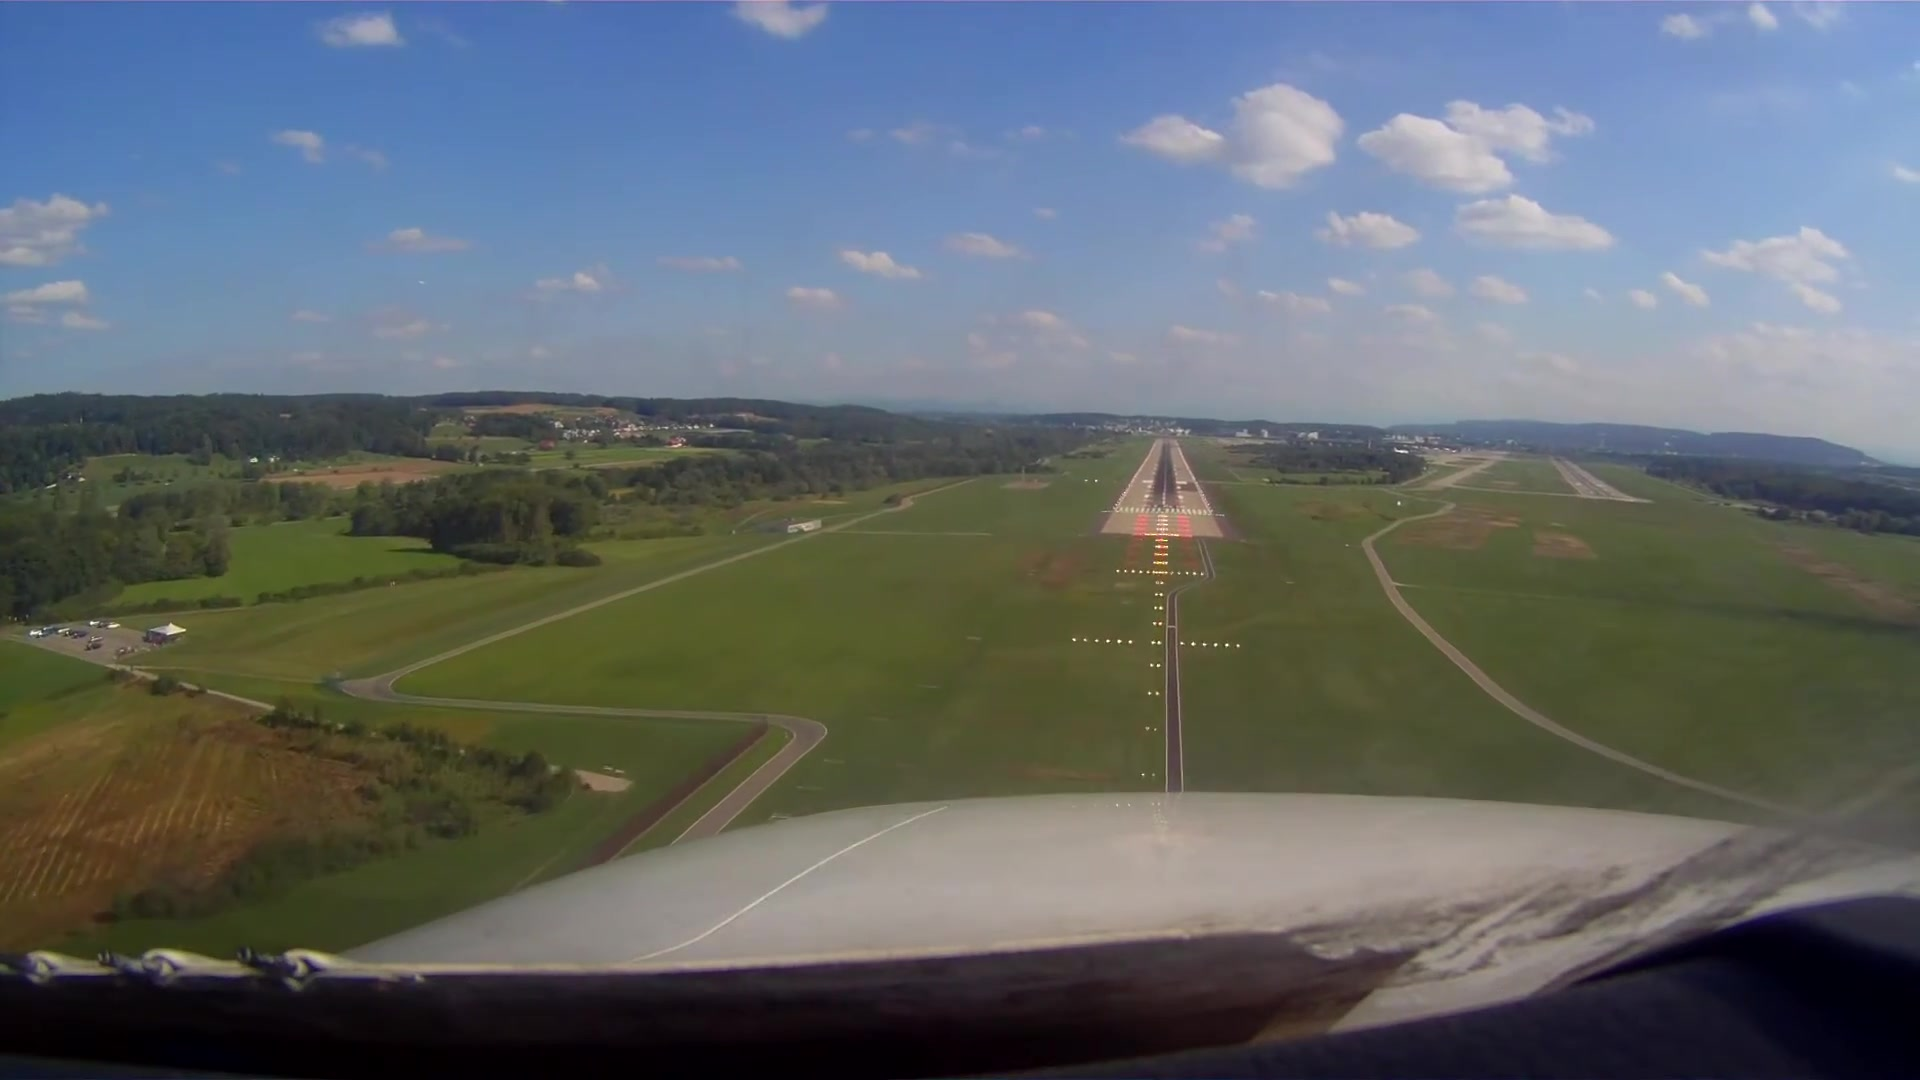entrance: (1116, 505, 1212, 518)
runway: (1109, 439, 1218, 524), (1555, 458, 1642, 502)
